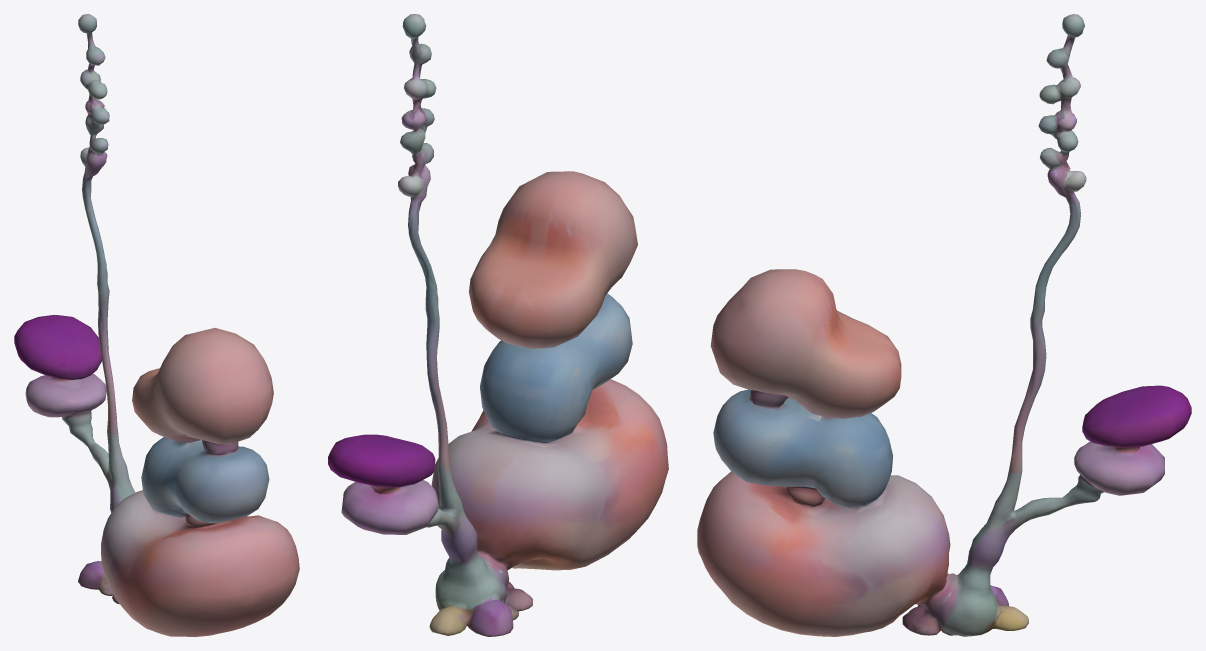
3 views of the same model, side by side, from view 1: azimuth 30°, elevation 25°; view 2: azimuth 150°, elevation 25°; view 3: azimuth 270°, elevation 25° (orthographic). The views are drawn at different scales.
Parts seen in each view (by area): view 1: tripo_node_2ed96038-9e91-418f-a5cb-c269b6861fe8; view 2: tripo_node_2ed96038-9e91-418f-a5cb-c269b6861fe8; view 3: tripo_node_2ed96038-9e91-418f-a5cb-c269b6861fe8.
Part boxes in pixels (x1,y1,x2,y2): tripo_node_2ed96038-9e91-418f-a5cb-c269b6861fe8: (14,14,299,636); tripo_node_2ed96038-9e91-418f-a5cb-c269b6861fe8: (328,14,668,636); tripo_node_2ed96038-9e91-418f-a5cb-c269b6861fe8: (697,14,1191,636).
Bounding box in the file's own units: 0.2916 × 1 × 0.726.
Materials: 1 (1 with a texture image).
